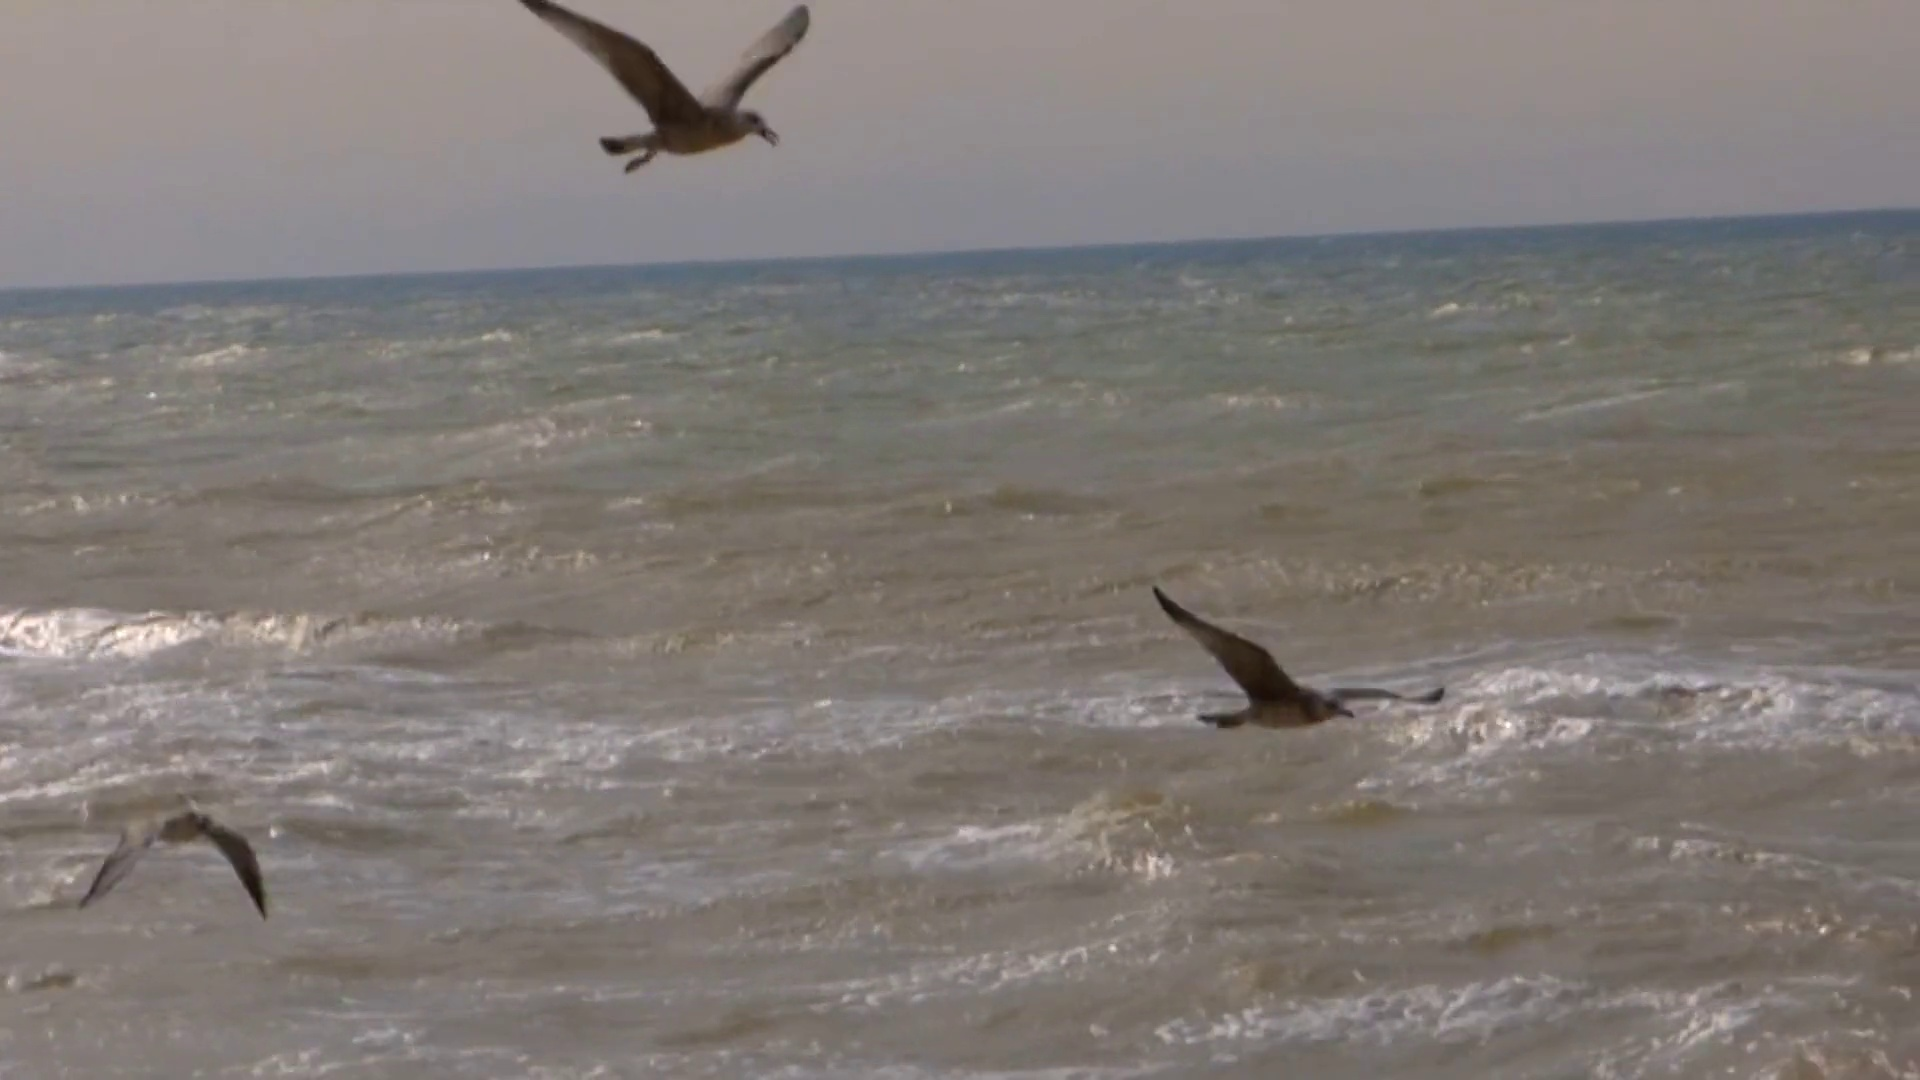bird: (520, 0, 810, 175), (1149, 580, 1448, 728), (76, 814, 268, 920)
